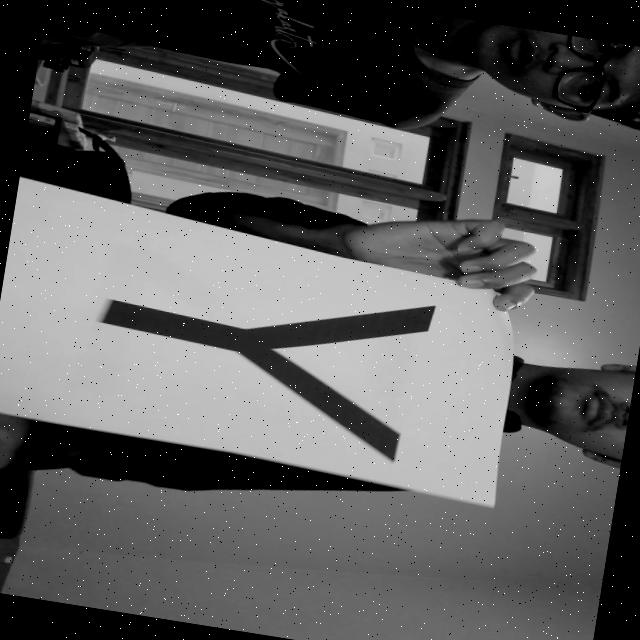y: (54, 236, 462, 476)
